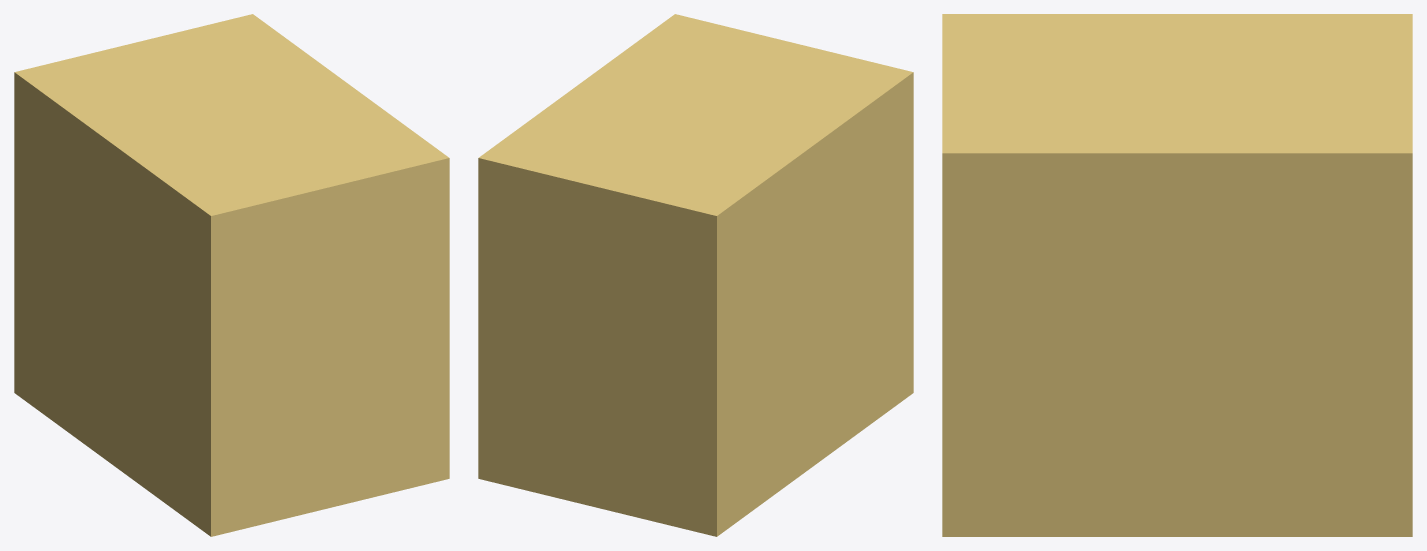
Rendered from kasar.glb.
3 renders of one model, left to right at view 1: azimuth 30°, elevation 25°; view 2: azimuth 150°, elevation 25°; view 3: azimuth 270°, elevation 25°, orthographic. The views are drawn at different scales.
Visible parts, largest first — view 1: kaset; view 2: kaset; view 3: kaset.
Boxes of the visible parts, x1=… form: kaset: x1=14, y1=14, x2=449, y2=536; kaset: x1=478, y1=14, x2=913, y2=536; kaset: x1=942, y1=14, x2=1412, y2=536.
Bounding box in the file's own units: 0.28 × 0.36 × 0.4.
